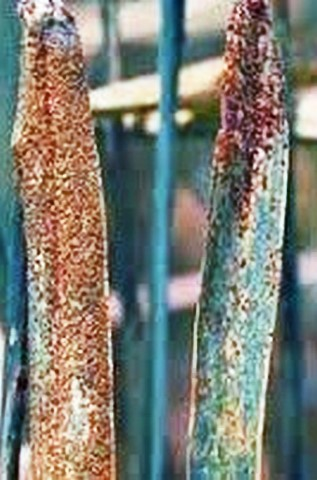Leaf Rust: (13, 51, 130, 470)
